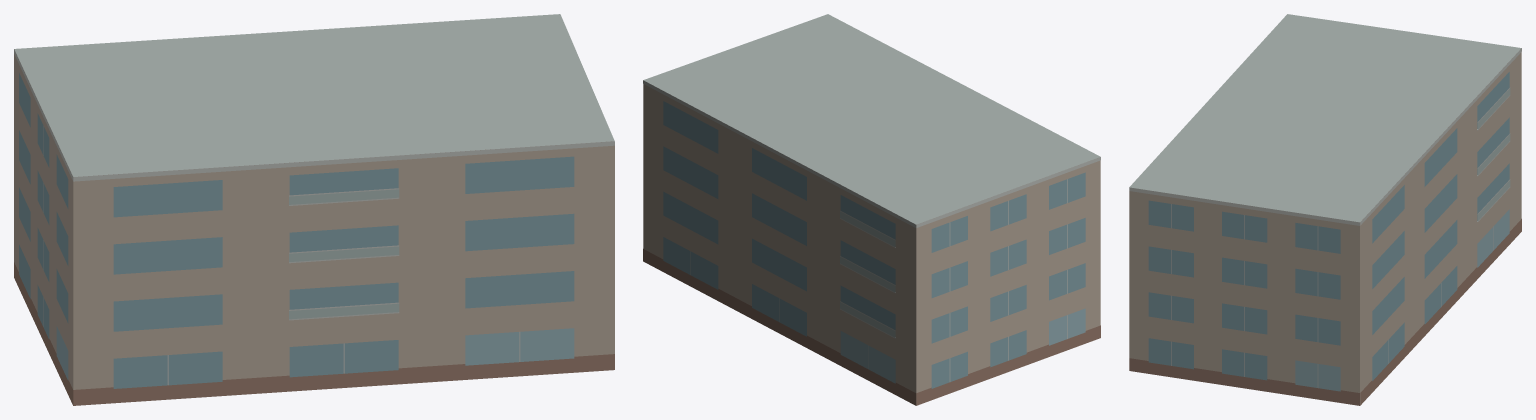
The model's file is survey-upis-32874203.glb.
3 renders of one model, left to right at view 1: azimuth 30°, elevation 25°; view 2: azimuth 150°, elevation 25°; view 3: azimuth 270°, elevation 25°, orthographic. The views are drawn at different scales.
Visible parts, largest first — view 1: survey-upis-32874203.tmp; view 2: survey-upis-32874203.tmp; view 3: survey-upis-32874203.tmp.
Boxes of the visible parts, bbox=[...] form: survey-upis-32874203.tmp: bbox=[14, 14, 614, 405]; survey-upis-32874203.tmp: bbox=[643, 14, 1100, 405]; survey-upis-32874203.tmp: bbox=[1129, 14, 1521, 405].
Size of the model in its own units: 30.21 by 12.4 by 24.05.
